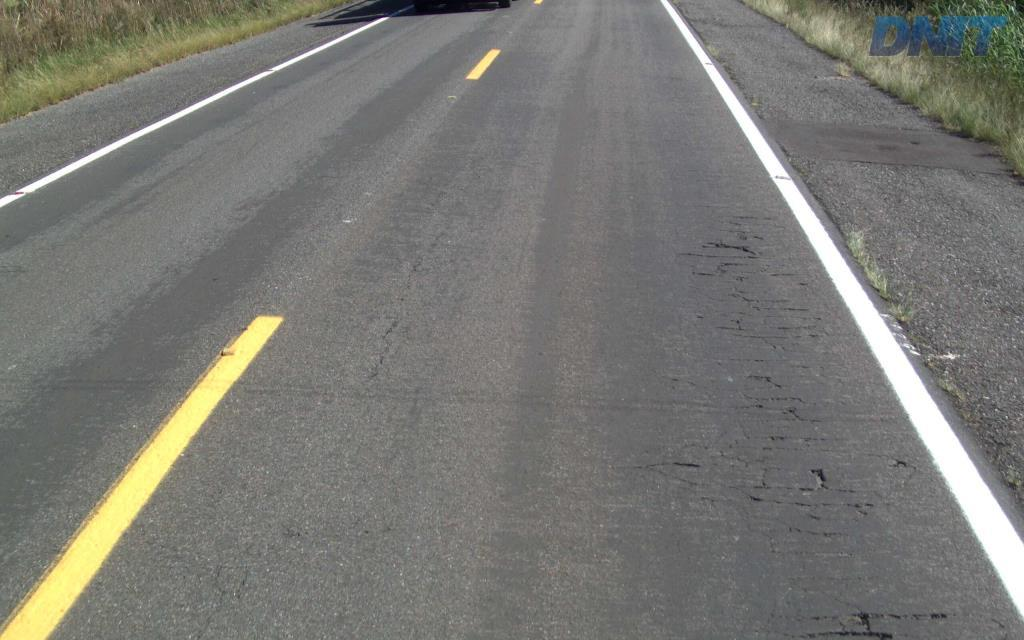crack: (784, 603, 893, 639)
